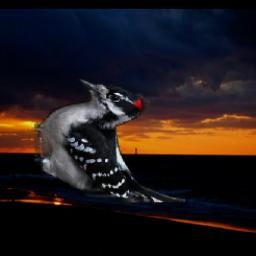Woodpecker: (35, 80, 186, 203)
